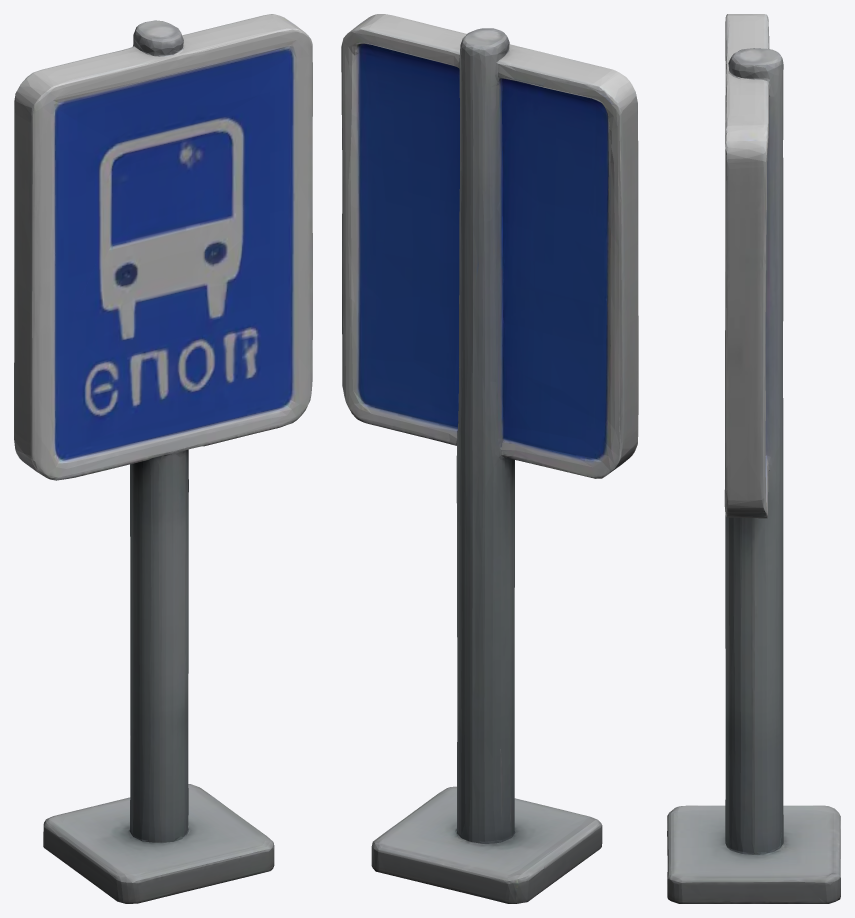
Rendered from bus sign.glb.
3 renders of one model, left to right at view 1: azimuth 30°, elevation 25°; view 2: azimuth 150°, elevation 25°; view 3: azimuth 270°, elevation 25°, orthographic.
Parts seen in each view (by area): view 1: world; view 2: world; view 3: world.
Part boxes in pixels (<box>): world: <box>14,14,312,903</box>; world: <box>341,14,638,903</box>; world: <box>667,14,840,903</box>.
Size of the model in its own units: 0.3575 by 1 by 0.194.
1 material, 1 textured.
